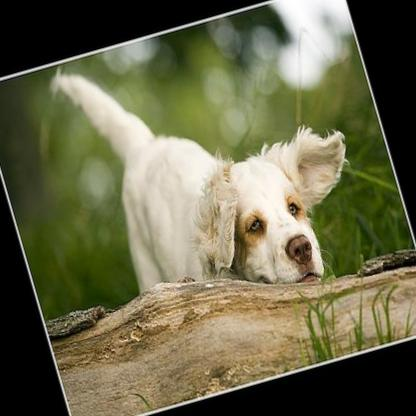clumber: (38, 0, 384, 344)
